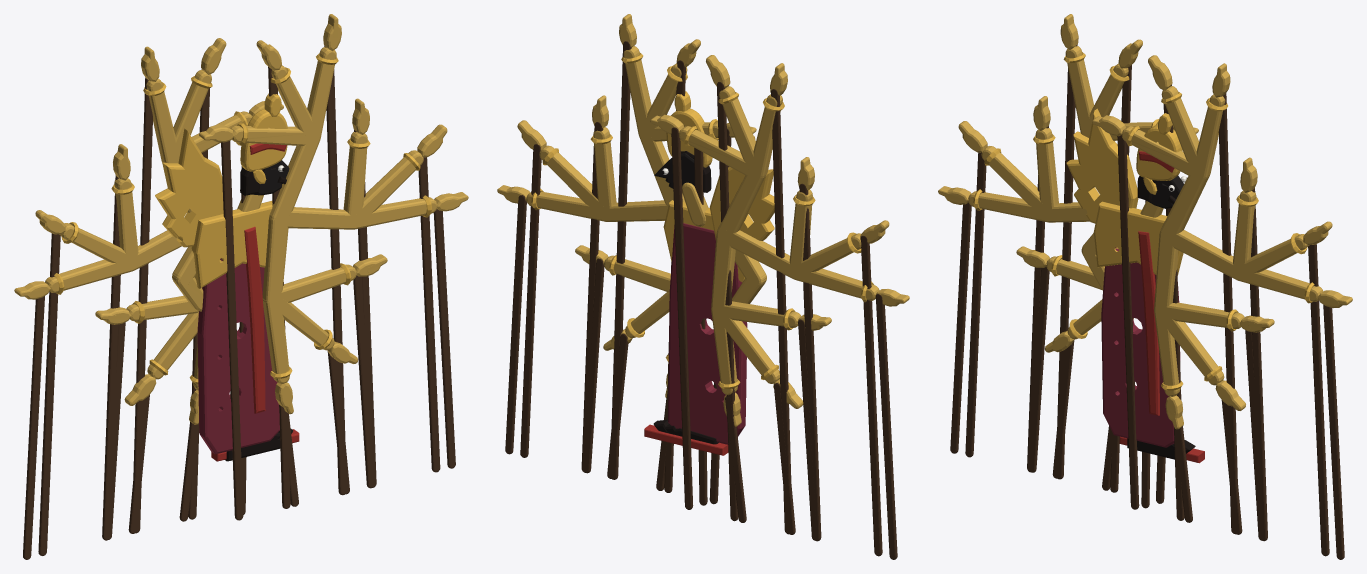
File: guru.glb
3 renders of one model, left to right at view 1: azimuth 30°, elevation 25°; view 2: azimuth 150°, elevation 25°; view 3: azimuth 330°, elevation 25°, orthographic. The views are drawn at different scales.
Visible parts, largest first — view 1: body, front_20, front_10, back_10, back_20, front_22, front_11, back_11, front_00, back_12, front_12, front_02 (+8 smaller); view 2: body, back_20, front_20, back_10, back_22, front_10, front_11, back_11, back_21, back_12, back_00, front_12 (+8 smaller); view 3: body, front_20, front_10, front_22, back_10, back_11, back_20, front_11, front_12, front_00, back_12, back_02 (+7 smaller).
Part boxes in pixels (x1=…): body: x1=155, y1=128, x2=299, y2=514; front_20: x1=269, y1=14, x2=345, y2=495; front_10: x1=269, y1=192, x2=468, y2=468; back_10: x1=14, y1=230, x2=181, y2=559; back_20: x1=133, y1=46, x2=191, y2=533; front_22: x1=199, y1=122, x2=307, y2=520; front_11: x1=353, y1=124, x2=447, y2=472; back_11: x1=35, y1=210, x2=134, y2=555; front_00: x1=262, y1=212, x2=298, y2=506; back_12: x1=102, y1=144, x2=138, y2=540; front_12: x1=343, y1=98, x2=376, y2=487; front_02: x1=263, y1=254, x2=387, y2=488; body: x1=644, y1=136, x2=774, y2=505; back_20: x1=717, y1=63, x2=791, y2=534; front_20: x1=611, y1=14, x2=684, y2=479; back_10: x1=717, y1=230, x2=909, y2=559; back_22: x1=650, y1=114, x2=762, y2=509; front_10: x1=497, y1=185, x2=667, y2=454; front_11: x1=517, y1=120, x2=607, y2=457; back_11: x1=793, y1=220, x2=889, y2=556; back_21: x1=706, y1=55, x2=765, y2=521; back_12: x1=789, y1=157, x2=821, y2=541; back_00: x1=711, y1=229, x2=746, y2=522; front_12: x1=581, y1=95, x2=616, y2=472; body: x1=1066, y1=108, x2=1204, y2=508; front_20: x1=1160, y1=63, x2=1237, y2=534; front_10: x1=1160, y1=230, x2=1352, y2=559; front_22: x1=1092, y1=115, x2=1206, y2=509; back_10: x1=938, y1=186, x2=1089, y2=453; back_11: x1=958, y1=121, x2=1049, y2=457; back_20: x1=1056, y1=14, x2=1094, y2=479; front_11: x1=1236, y1=221, x2=1332, y2=556; front_12: x1=1233, y1=157, x2=1267, y2=541; front_00: x1=1154, y1=229, x2=1192, y2=522; back_12: x1=1027, y1=96, x2=1058, y2=472; back_02: x1=1016, y1=246, x2=1102, y2=472.
Size of the model in its own units: 1.26 by 1.33 by 0.1218.
